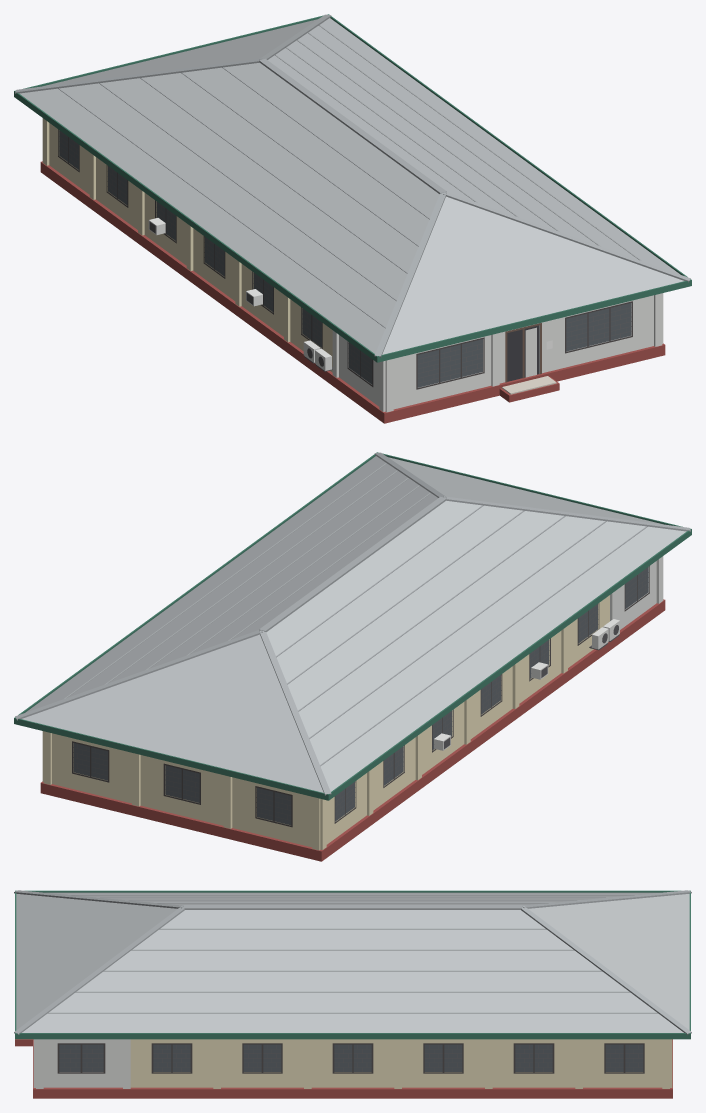
The model's file is prdp_building.glb.
The picture shows the model from 3 angles, top to bottom: view 1: azimuth 30°, elevation 25°; view 2: azimuth 150°, elevation 25°; view 3: azimuth 270°, elevation 25°; orthographic projection. The views are drawn at different scales.
Visible parts, largest first — view 1: PRDP_Roof, Mesh_Mat_PRDP_RidgeCap, Mesh_Mat_PRDP_WallWhite, Mesh_Mat_PRDP_WallCream, Mesh_Mat_PRDP_Maroon, Mesh_Mat_PRDP_Glass, Mesh_Mat_PRDP_Fascia, Mesh_Mat_PRDP_Grille, Mesh_Mat_PRDP_Frame, PRDP_Front_Interior, Mesh_Mat_PRDP_ACUnit; view 2: PRDP_Roof, Mesh_Mat_PRDP_WallCream, Mesh_Mat_PRDP_RidgeCap, Mesh_Mat_PRDP_Maroon, Mesh_Mat_PRDP_Fascia, Mesh_Mat_PRDP_Glass, Mesh_Mat_PRDP_Frame, Mesh_Mat_PRDP_Grille, Mesh_Mat_PRDP_WallWhite, Mesh_Mat_PRDP_ACUnit; view 3: PRDP_Roof, Mesh_Mat_PRDP_WallCream, Mesh_Mat_PRDP_RidgeCap, Mesh_Mat_PRDP_Maroon, Mesh_Mat_PRDP_Glass, Mesh_Mat_PRDP_Fascia, Mesh_Mat_PRDP_WallWhite, Mesh_Mat_PRDP_Frame, Mesh_Mat_PRDP_Grille.
Part boxes in pixels (<box>): PRDP_Roof: <box>19,18,683,354</box>; Mesh_Mat_PRDP_RidgeCap: <box>15,14,690,357</box>; Mesh_Mat_PRDP_WallWhite: <box>332,293,663,412</box>; Mesh_Mat_PRDP_WallCream: <box>42,118,332,372</box>; Mesh_Mat_PRDP_Maroon: <box>40,161,665,423</box>; Mesh_Mat_PRDP_Glass: <box>59,130,631,387</box>; Mesh_Mat_PRDP_Fascia: <box>14,14,691,362</box>; Mesh_Mat_PRDP_Grille: <box>59,131,631,384</box>; Mesh_Mat_PRDP_Frame: <box>58,129,632,389</box>; PRDP_Front_Interior: <box>507,325,539,381</box>; Mesh_Mat_PRDP_ACUnit: <box>148,218,331,370</box>; PRDP_Roof: <box>22,456,686,792</box>; Mesh_Mat_PRDP_WallCream: <box>42,595,609,850</box>; Mesh_Mat_PRDP_RidgeCap: <box>15,452,690,795</box>; Mesh_Mat_PRDP_Maroon: <box>40,599,665,861</box>; Mesh_Mat_PRDP_Fascia: <box>14,452,691,800</box>; Mesh_Mat_PRDP_Glass: <box>73,567,648,825</box>; Mesh_Mat_PRDP_Frame: <box>72,566,649,827</box>; Mesh_Mat_PRDP_Grille: <box>73,567,648,823</box>; Mesh_Mat_PRDP_WallWhite: <box>610,556,663,629</box>; Mesh_Mat_PRDP_ACUnit: <box>434,619,619,750</box>; PRDP_Roof: <box>16,892,689,1032</box>; Mesh_Mat_PRDP_WallCream: <box>130,1039,672,1088</box>; Mesh_Mat_PRDP_RidgeCap: <box>14,890,691,1034</box>; Mesh_Mat_PRDP_Maroon: <box>15,1039,672,1098</box>; Mesh_Mat_PRDP_Glass: <box>59,1044,643,1071</box>; Mesh_Mat_PRDP_Fascia: <box>15,890,690,1039</box>; Mesh_Mat_PRDP_WallWhite: <box>33,1039,130,1088</box>; Mesh_Mat_PRDP_Frame: <box>57,1043,644,1073</box>; Mesh_Mat_PRDP_Grille: <box>59,1044,643,1071</box>.
Bounding box in the file's own units: 14.5 × 6.03 × 28.9.
